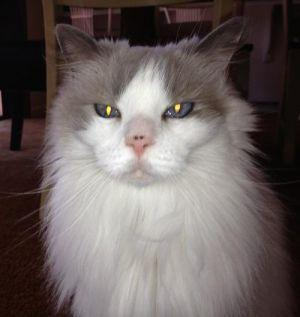ragdoll: (48, 1, 256, 207)
